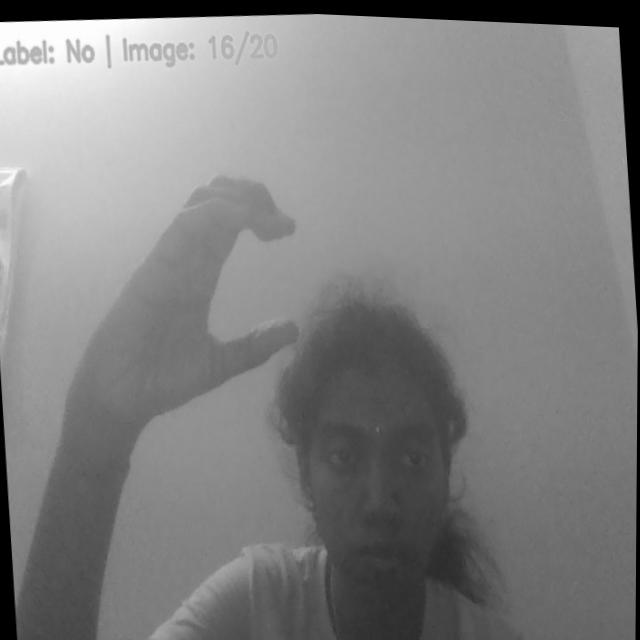No: (43, 143, 330, 458)
